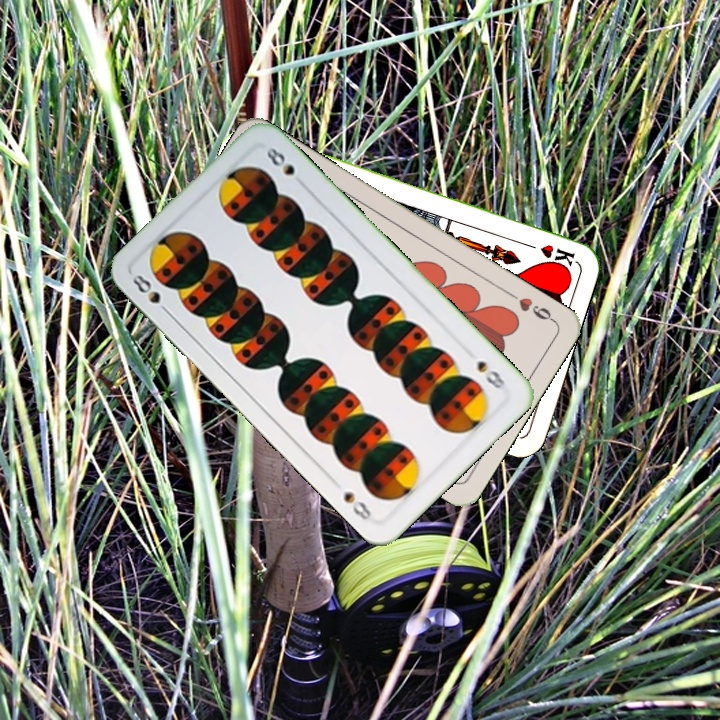H9: (505, 288, 558, 325)
HK: (519, 238, 577, 269)
S8: (128, 270, 174, 318), (473, 356, 508, 392)
